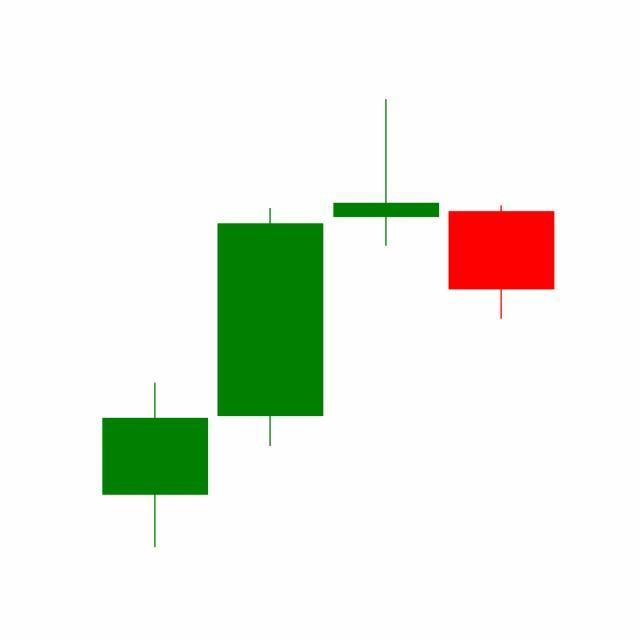Evening Star: (211, 99, 555, 451)
